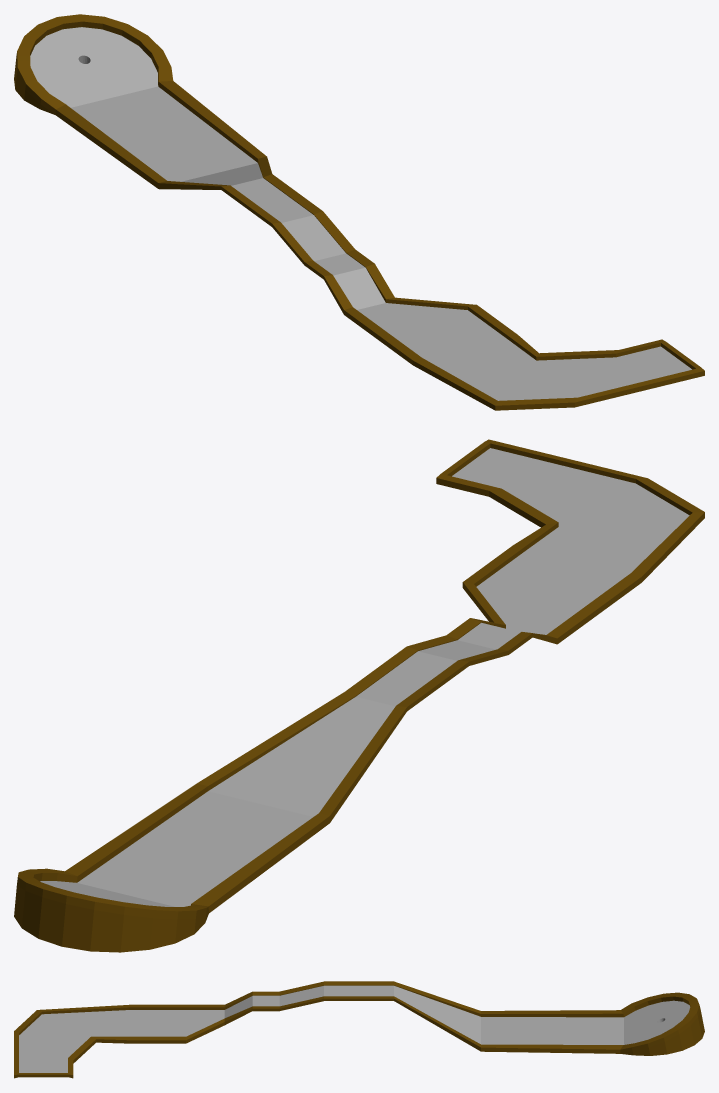
Rendered from Hole 2.fbx.
3 renders of one model, top to bottom at view 1: azimuth 30°, elevation 25°; view 2: azimuth 150°, elevation 25°; view 3: azimuth 270°, elevation 25°, orthographic. The views are drawn at different scales.
Visible parts, largest first — view 1: Hole2; view 2: Hole2; view 3: Hole2.
Part boxes in pixels (x1,y1,x2,y2): Hole2: (14, 14, 704, 410); Hole2: (14, 439, 704, 952); Hole2: (14, 981, 704, 1078).
Bounding box in the file's own units: 19.68 × 4.77 × 77.36.
